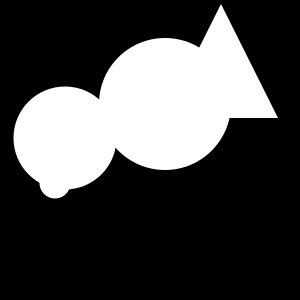rectangle: (99, 38, 231, 170), (14, 86, 116, 190), (39, 168, 70, 198)
triangle: (164, 4, 278, 118)
